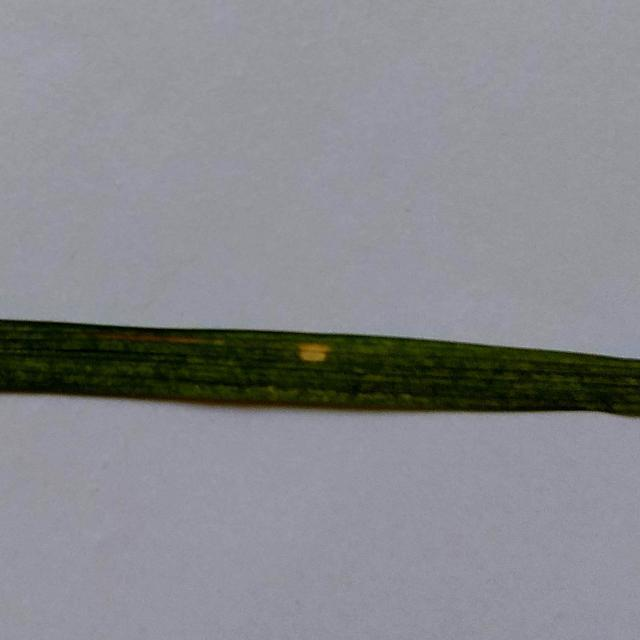Rice_Blast: (288, 327, 342, 365)
